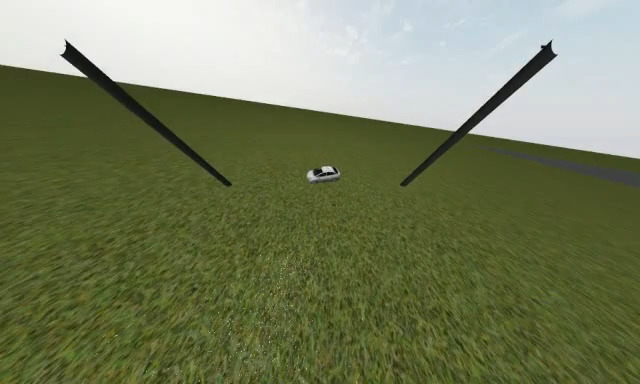Car: (305, 166, 342, 185)
